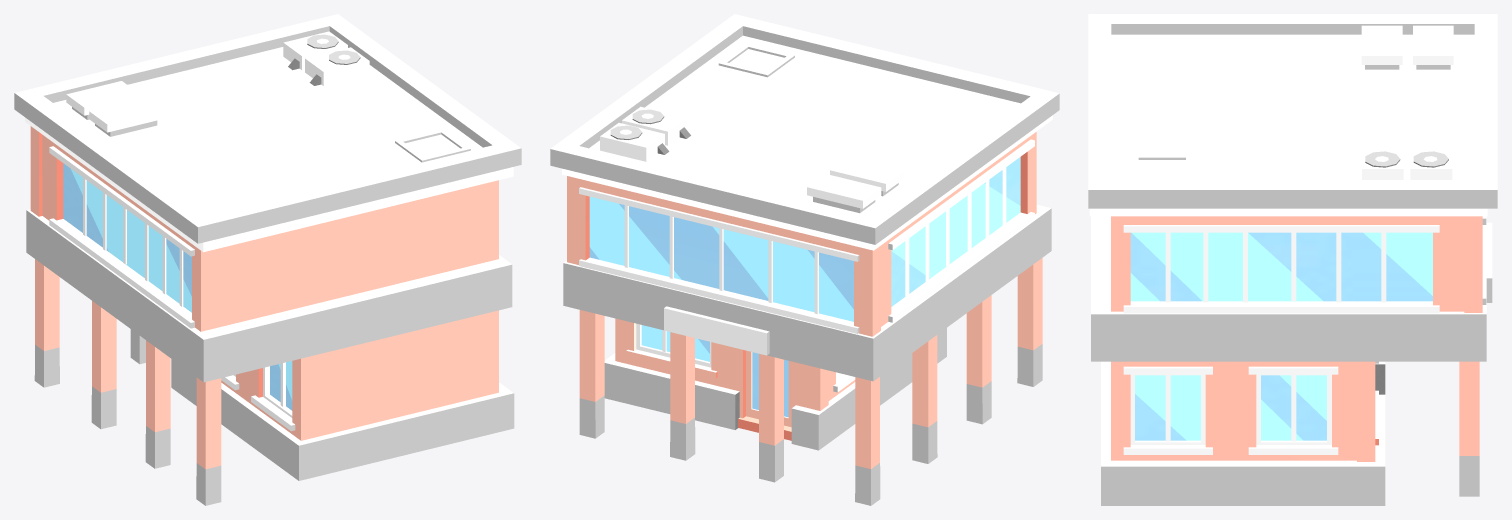
File: bank.006.glb
3 renders of one model, left to right at view 1: azimuth 30°, elevation 25°; view 2: azimuth 150°, elevation 25°; view 3: azimuth 270°, elevation 25°, orthographic. The views are drawn at different scales.
Visible parts, largest first — view 1: bank.006(Clone); view 2: bank.006(Clone); view 3: bank.006(Clone).
Boxes of the visible parts, x1=… form: bank.006(Clone): x1=14, y1=14, x2=521, y2=505; bank.006(Clone): x1=550, y1=14, x2=1059, y2=505; bank.006(Clone): x1=1088, y1=14, x2=1497, y2=505.
Bounding box in the file's own units: 7.14 × 6.13 × 7.01.
Materials: 1 (1 with a texture image).
